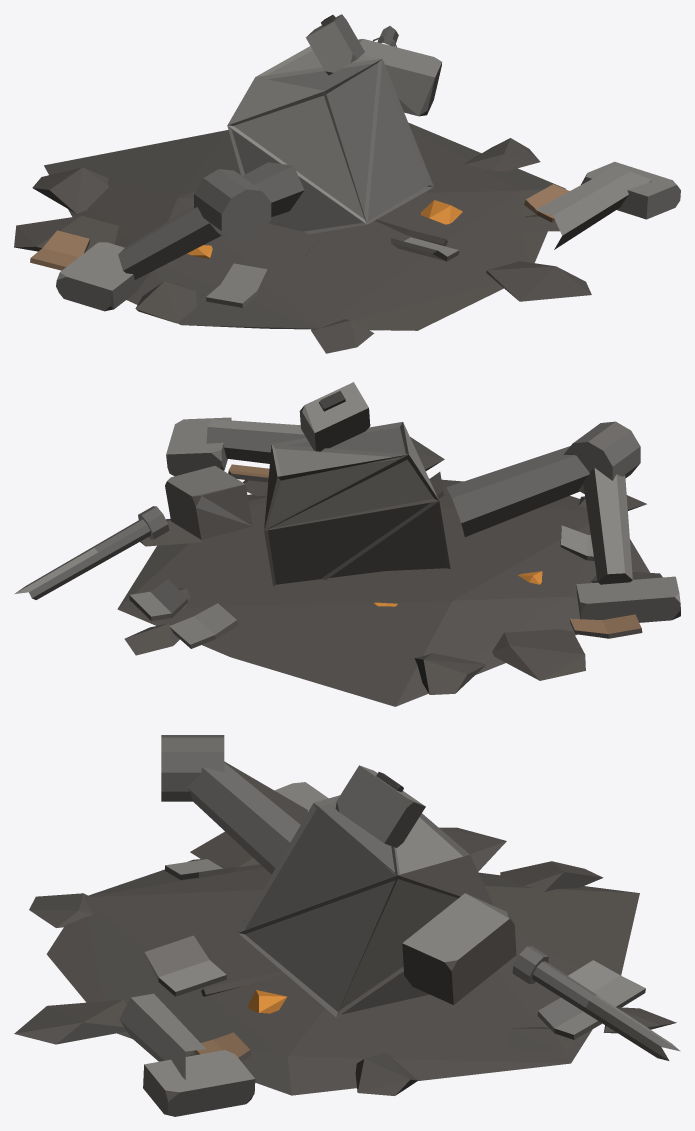
Rendered from wreck_1.glb.
3 views of the same model, one above another, from view 1: azimuth 30°, elevation 25°; view 2: azimuth 150°, elevation 25°; view 3: azimuth 270°, elevation 25° (orthographic). The views are drawn at different scales.
Parts seen in each view (by area): view 1: Body; view 2: Body; view 3: Body.
Part boxes in pixels (box(x1,y1,x2,y2)): Body: box(14, 14, 680, 353); Body: box(14, 382, 680, 706); Body: box(14, 735, 680, 1116).
Size of the model in its own units: 5.85 by 2.13 by 5.3.
